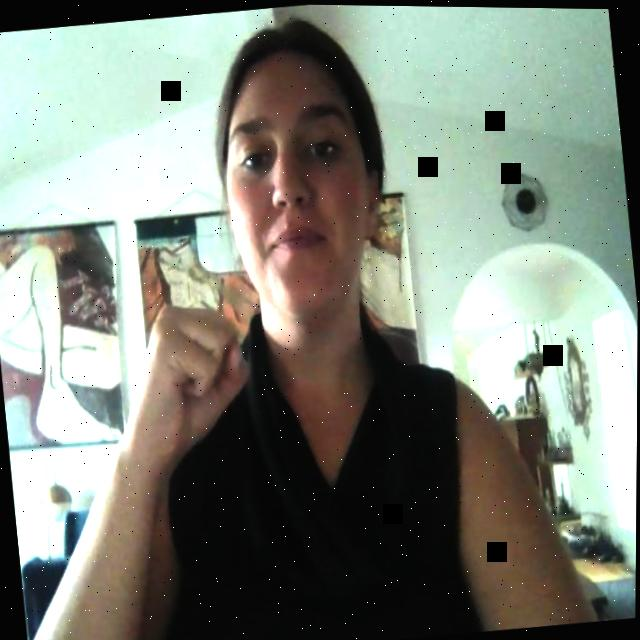Rock: (115, 294, 265, 465)
